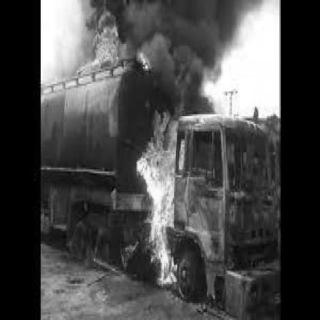Fire: (136, 78, 194, 294)
